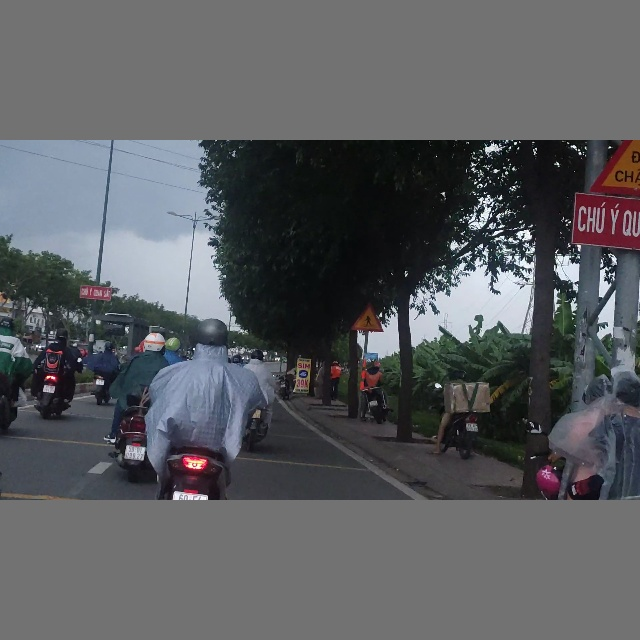W.224: (351, 303, 383, 332)
